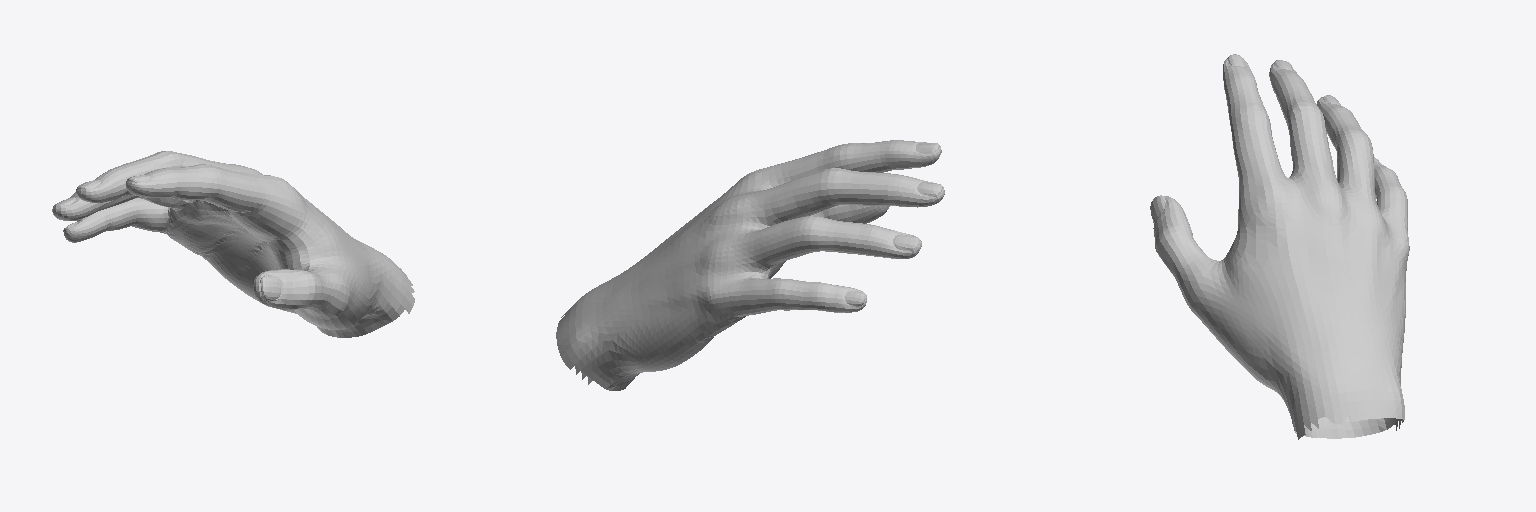
File: hand_r.OBJ
3 renders of one model, left to right at view 1: azimuth 30°, elevation 25°; view 2: azimuth 150°, elevation 25°; view 3: azimuth 270°, elevation 25°, orthographic.
Parts seen in each view (by area): view 1: hand_r_UV1.001; view 2: hand_r_UV1.001; view 3: hand_r_UV1.001.
Boxes of the visible parts, x1,y1,x2,y2 form: hand_r_UV1.001: [52, 151, 414, 337]; hand_r_UV1.001: [556, 140, 944, 390]; hand_r_UV1.001: [1150, 54, 1409, 439].
Size of the model in its own units: 0.1535 by 0.1079 by 0.0972.